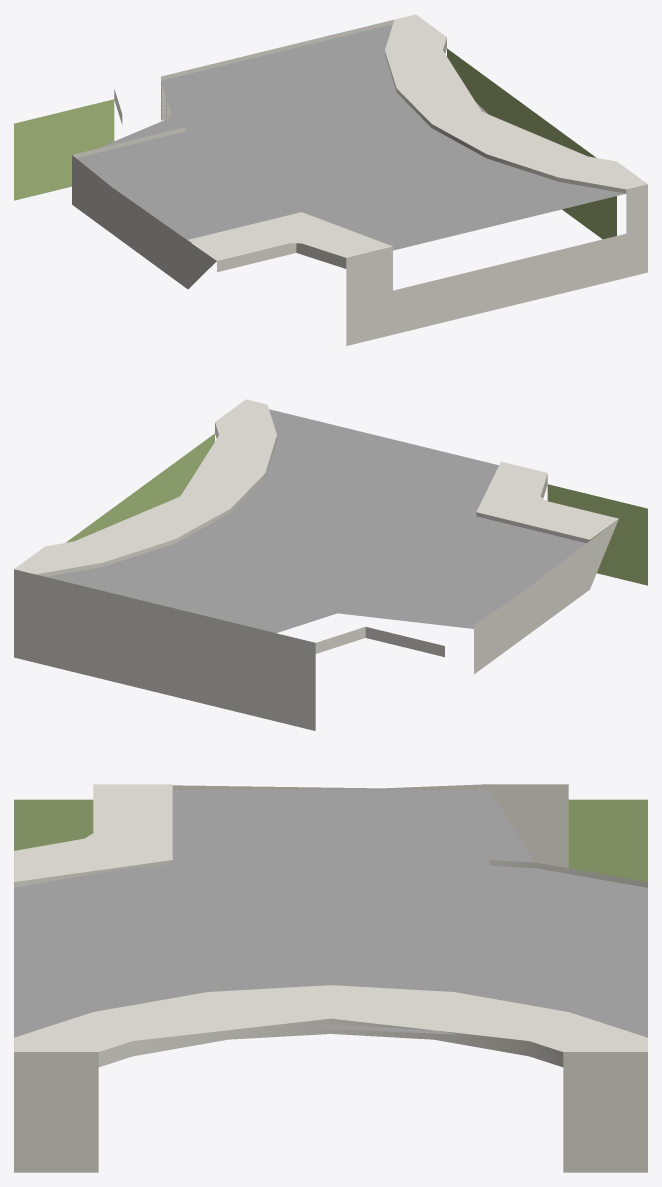
File: roadtile-043.glb
The picture shows the model from 3 angles, top to bottom: view 1: azimuth 30°, elevation 25°; view 2: azimuth 150°, elevation 25°; view 3: azimuth 270°, elevation 25°; orthographic projection. The views are drawn at different scales.
Parts seen in each view (by area): view 1: Mesh1 Group1 Model; view 2: Mesh1 Group1 Model; view 3: Mesh1 Group1 Model.
Part boxes in pixels (x1,y1,x2,y2): Mesh1 Group1 Model: [14, 14, 647, 345]; Mesh1 Group1 Model: [14, 399, 647, 730]; Mesh1 Group1 Model: [14, 784, 647, 1172].
Size of the model in its own units: 3 by 0.63 by 3.
